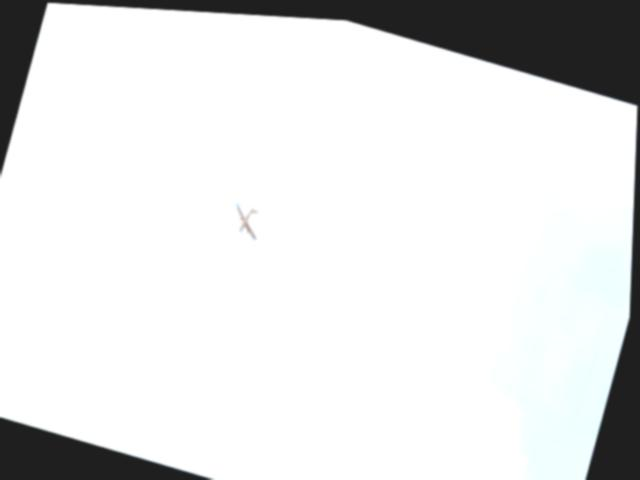uav: (227, 195, 272, 237)
